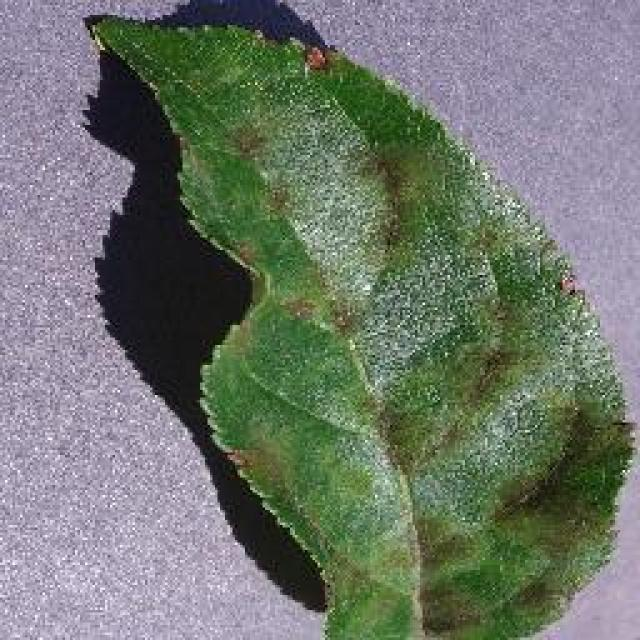apple scab disease: (80, 2, 638, 638)
